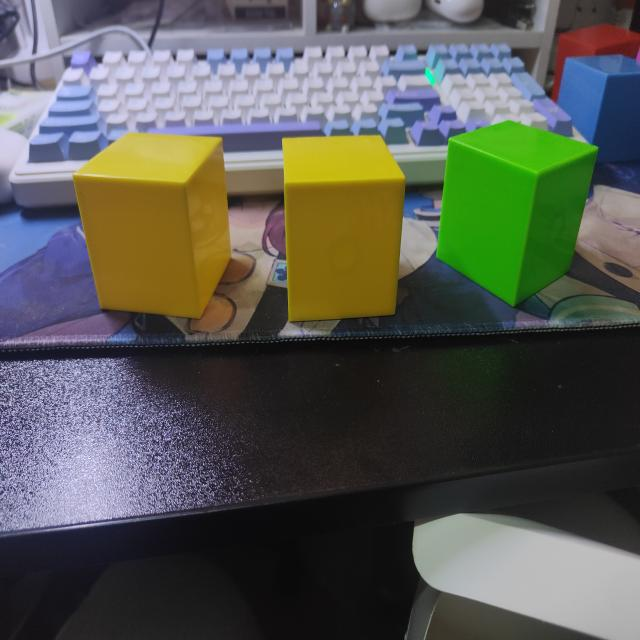green: (435, 121, 598, 309)
yellow: (71, 133, 231, 322), (282, 136, 405, 326)
